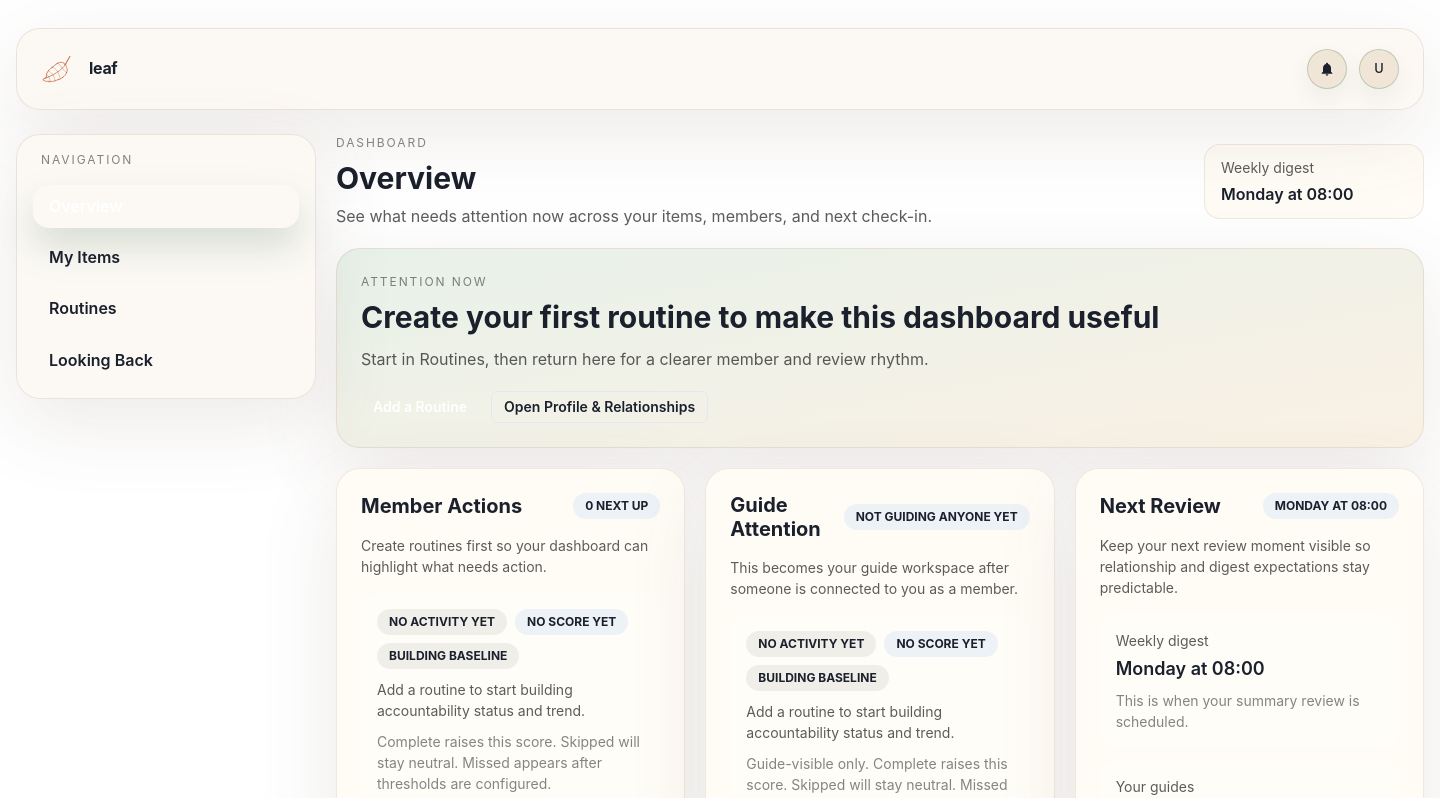
Test case: App routes › shows an intentional empty mailbox state when no updates exist yet
Click the button named "Open notifications inbox": [1327, 69] box [1307,49,1347,89]
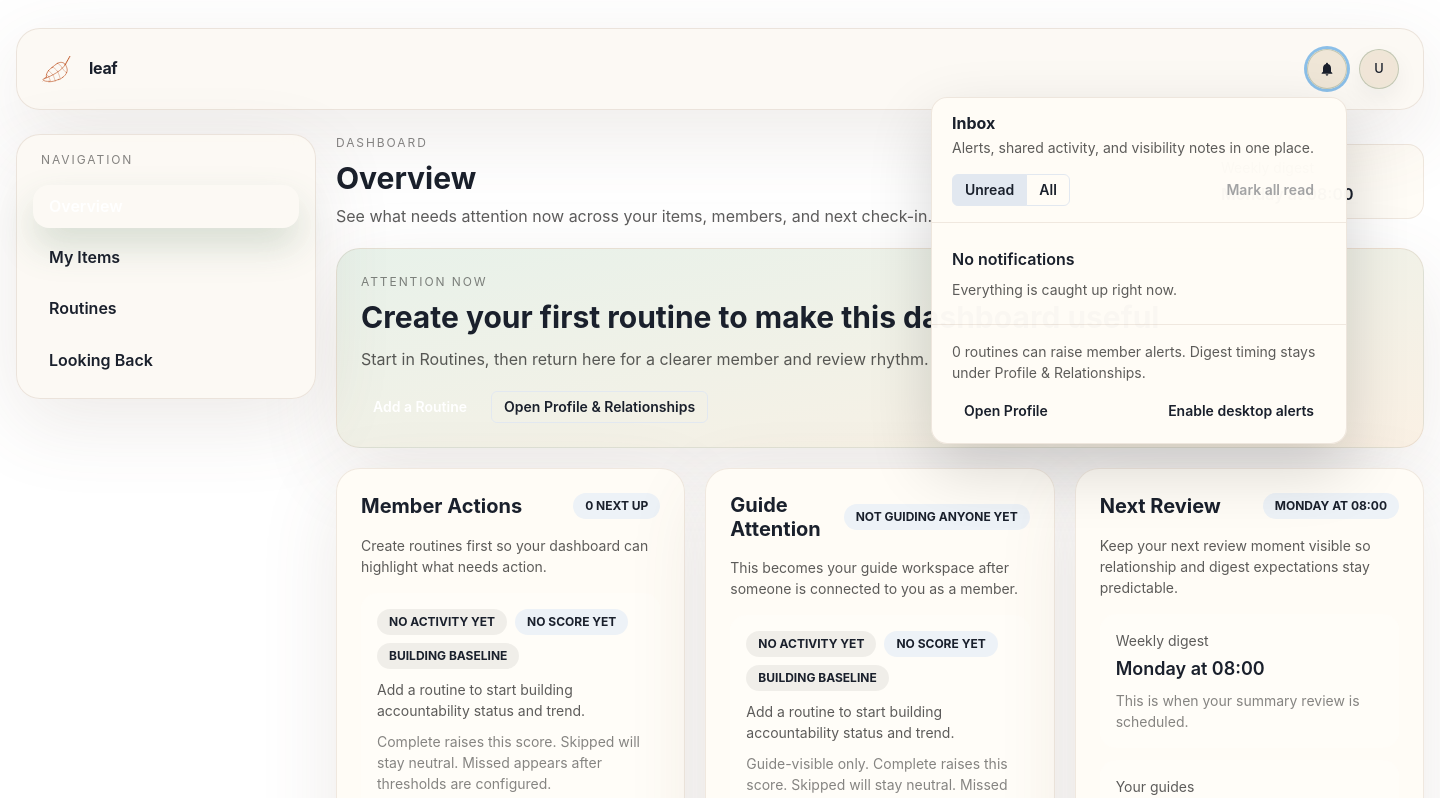
Check: the text "No notifications" is shown, box [952,249,1075,269]
Check: the text "Everything is caught up right now." is shown, box [952,281,1177,298]
